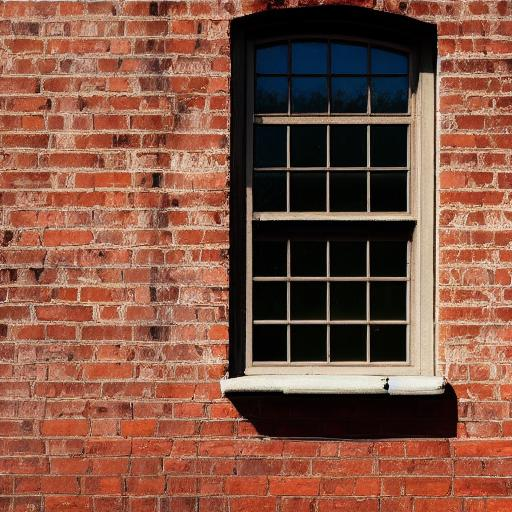Window: (222, 5, 460, 441)
